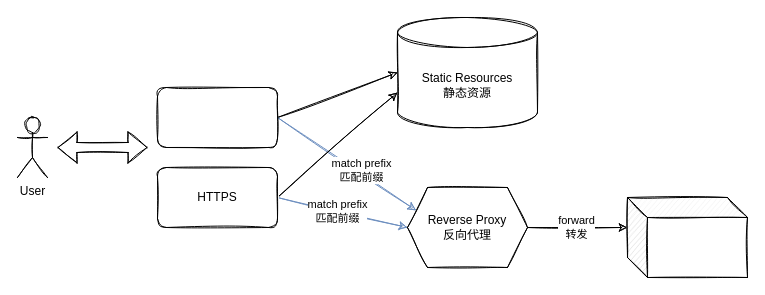
This 765x295 diagram has some shape labels left out. Here are the shapes that lost their labels. From the top down, the centre of each, then its label:
(217,117): HTTP
(687,237): Remote / Local Service 本地或远程服务
